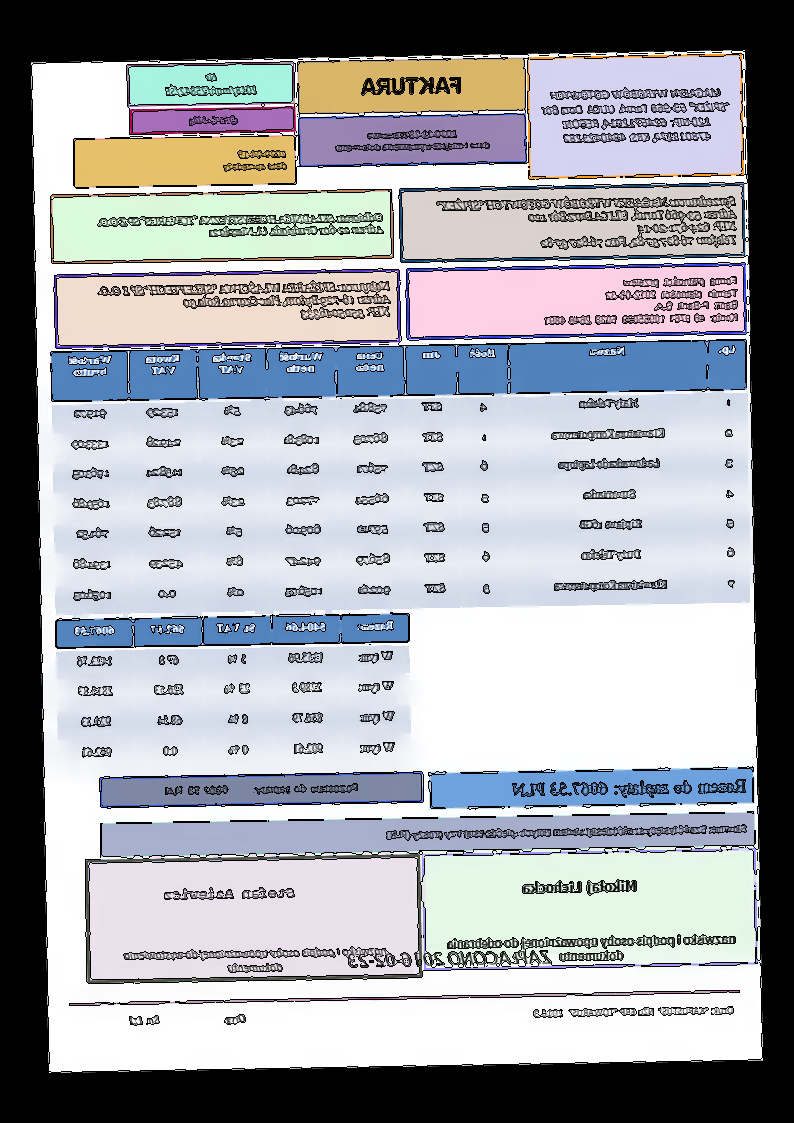Table: (49, 337, 752, 617), (55, 612, 414, 772)
TextBox: (434, 190, 739, 255), (94, 276, 393, 326), (539, 84, 733, 147), (541, 272, 740, 328), (97, 208, 387, 241), (448, 933, 740, 965), (122, 942, 388, 976), (385, 820, 748, 843), (510, 775, 749, 802), (343, 946, 552, 974), (332, 126, 493, 156), (532, 1001, 737, 1021), (163, 780, 361, 799), (164, 70, 260, 101), (520, 874, 640, 897), (161, 884, 297, 904), (358, 75, 464, 98), (221, 145, 290, 178), (126, 1010, 248, 1027), (187, 112, 240, 129)
